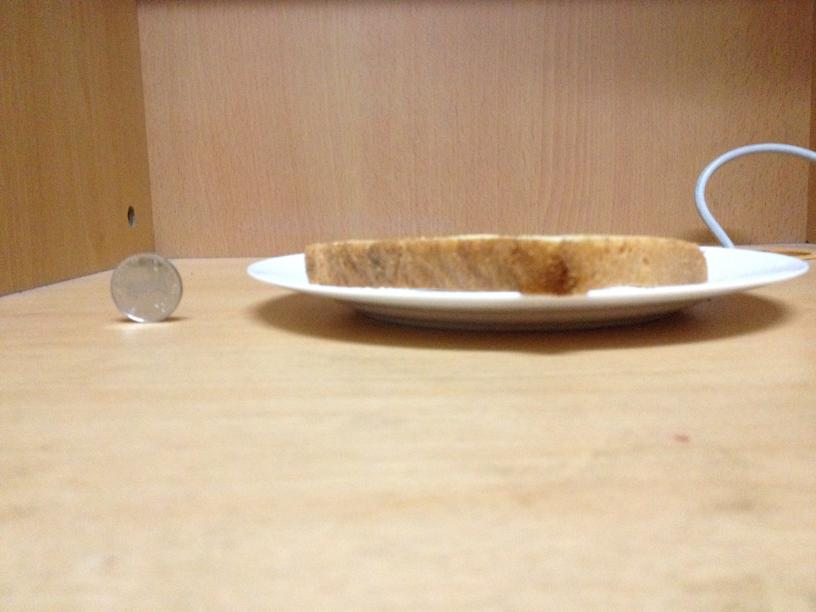bread: (300, 229, 708, 299)
coin: (108, 252, 181, 323)
